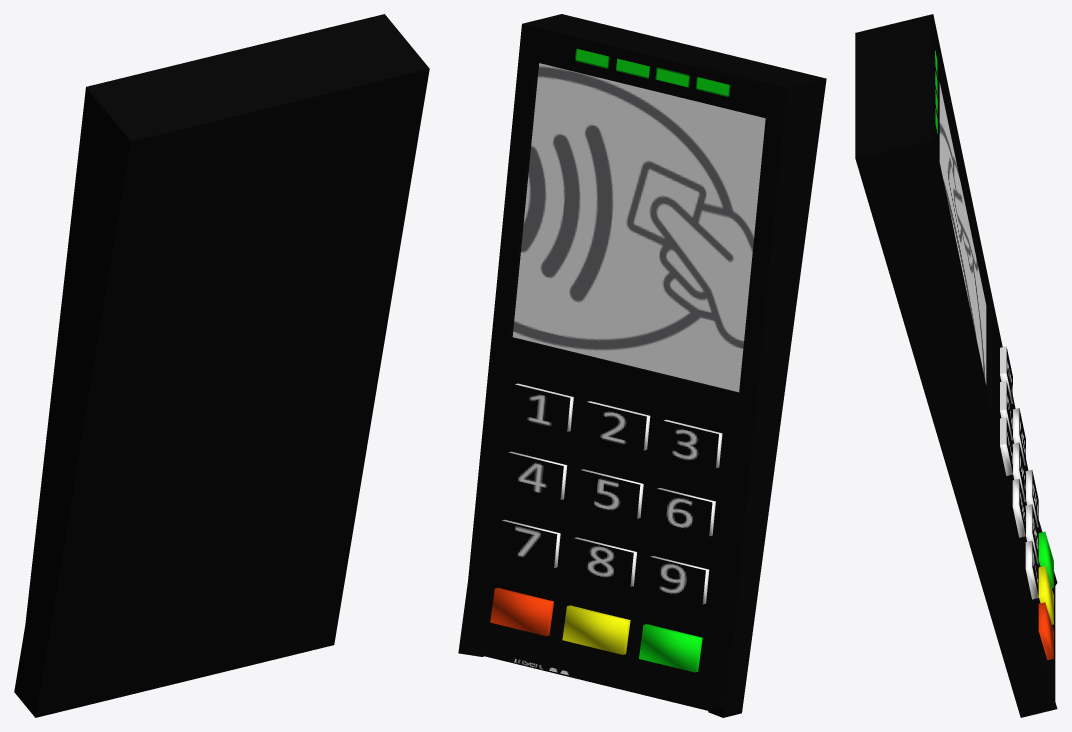
Rendered from Eftpos machine.fbx.
3 views of the same model, side by side, from view 1: azimuth 30°, elevation 25°; view 2: azimuth 150°, elevation 25°; view 3: azimuth 270°, elevation 25° (orthographic). The views are drawn at different scales.
Visible parts, largest first — view 1: Eftpos; view 2: Eftpos; view 3: Eftpos.
Boxes of the visible parts, x1=… form: Eftpos: x1=14, y1=14, x2=429, y2=717; Eftpos: x1=458, y1=14, x2=826, y2=717; Eftpos: x1=855, y1=14, x2=1057, y2=717.
Bounding box in the file's own units: 21.37 × 45.65 × 14.46.
Materials: 1 (1 with a texture image).
